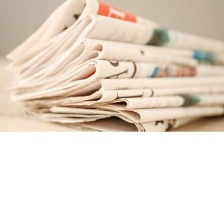news_paper: (3, 0, 224, 133)
